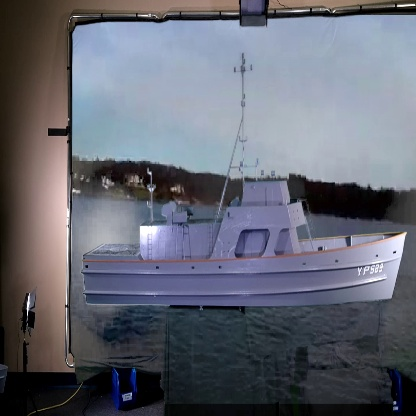YP689: (80, 48, 406, 311)
